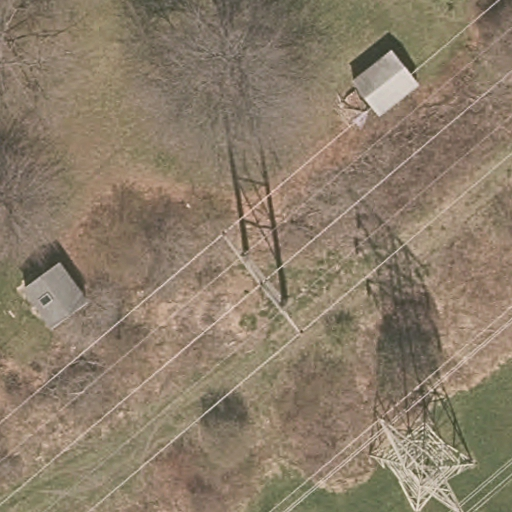TT: (368, 410, 470, 510)
